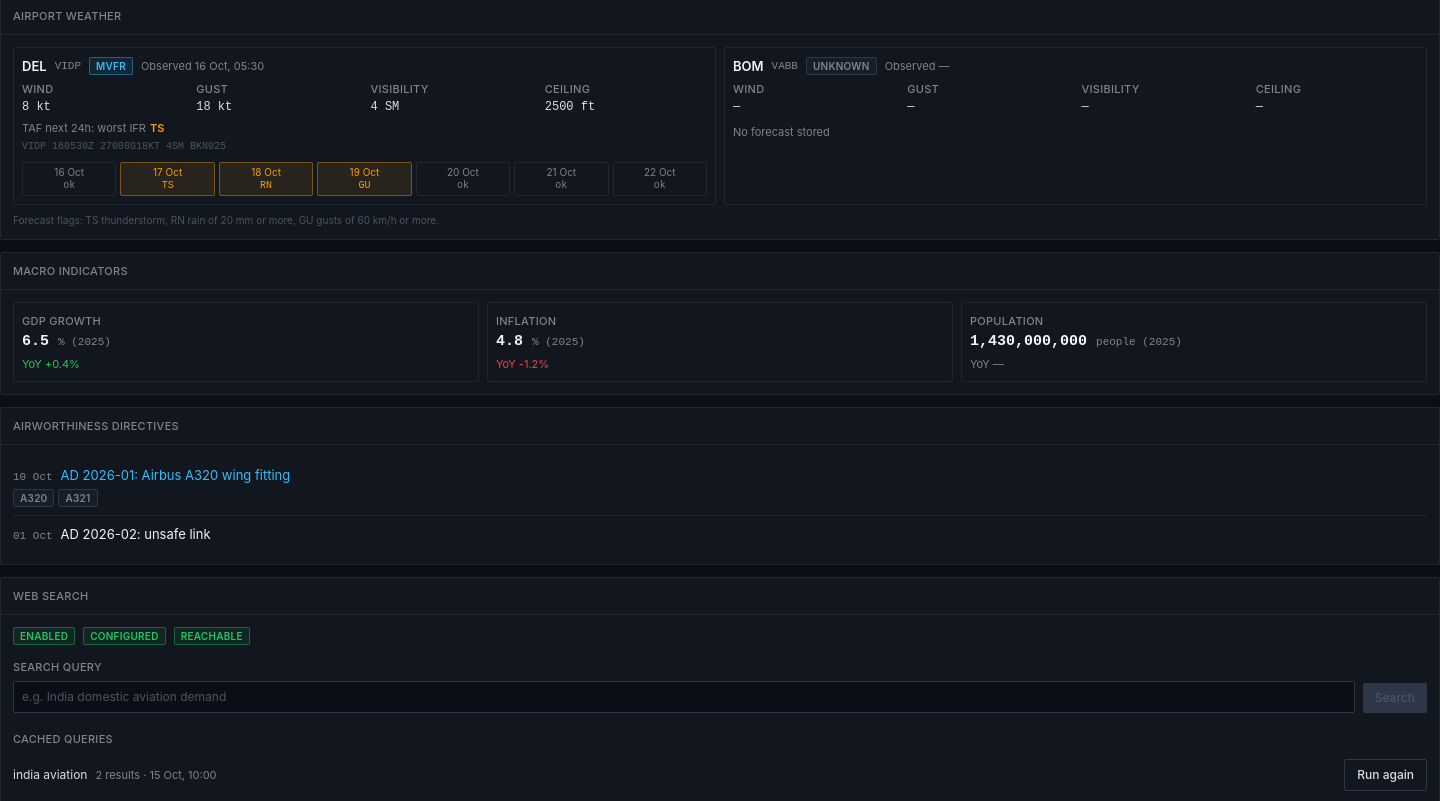
Test: DataPage › shows the search failure
(page scrolled)
Type "x" into the field labelled "Search query" at (684, 697), box [13, 681, 1355, 713]
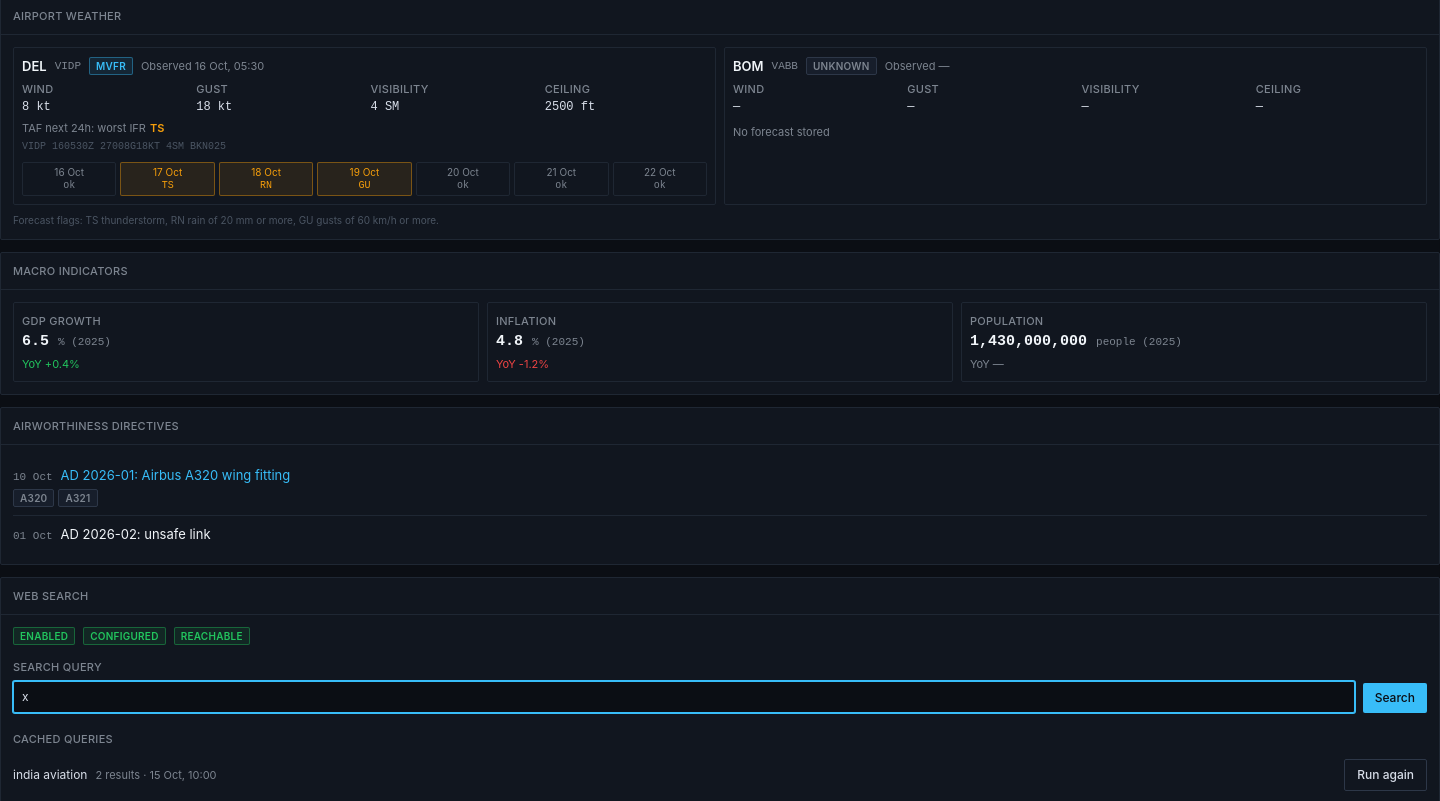
Click the button "Search" at (1395, 698), box [1363, 683, 1427, 713]
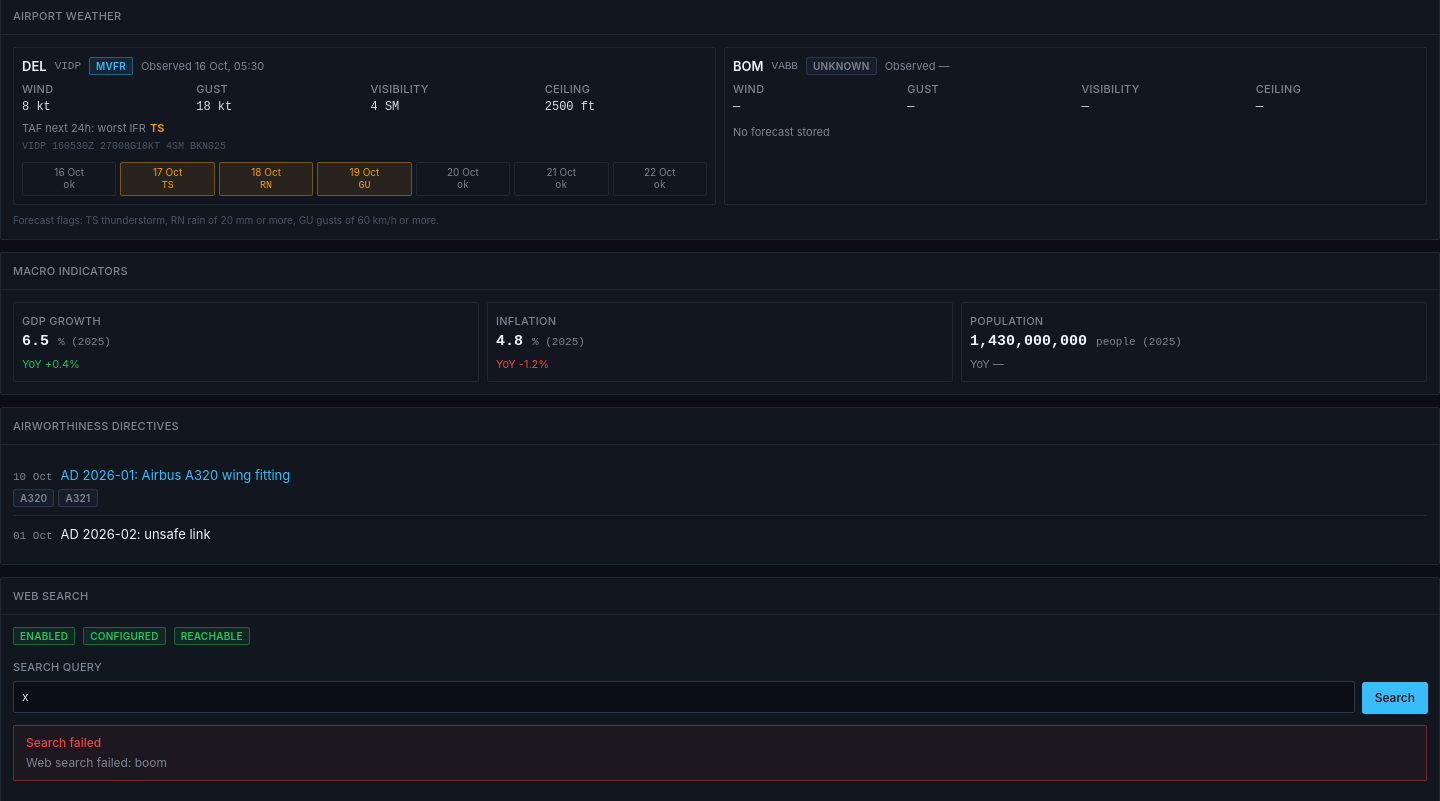
Expected: the text "Search failed" is shown, [26, 735, 101, 750]
Expected: the text "Web search failed: boom" is shown, [26, 755, 167, 770]
